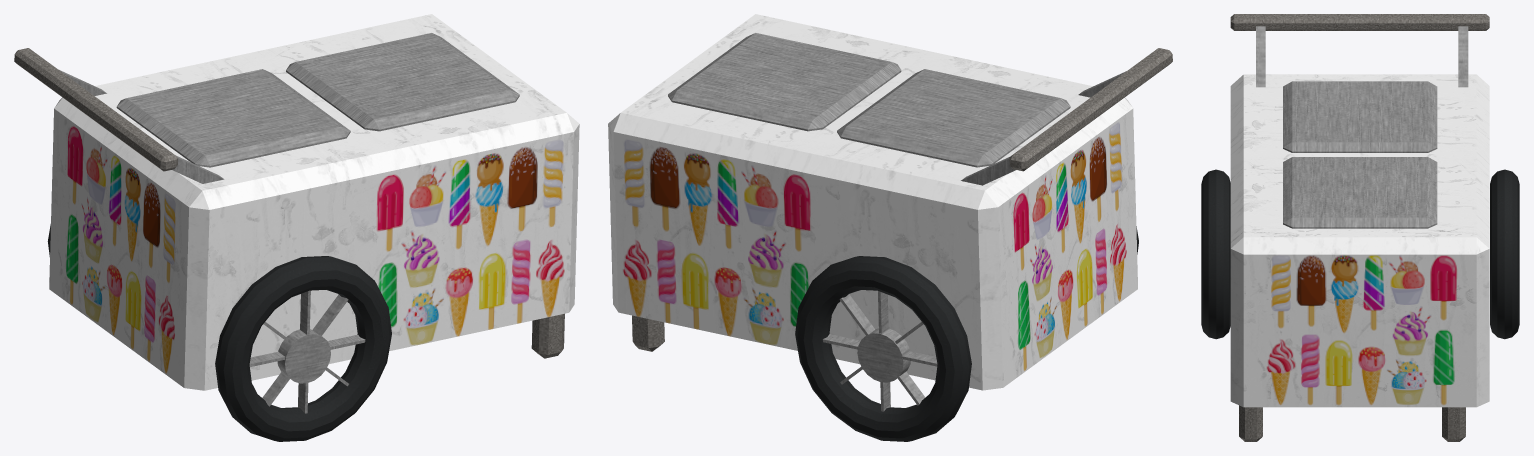
File: icecreamcart.fbx
3 views of the same model, side by side, from view 1: azimuth 30°, elevation 25°; view 2: azimuth 150°, elevation 25°; view 3: azimuth 270°, elevation 25° (orthographic). The views are drawn at different scales.
Parts seen in each view (by area): view 1: polySurface559; view 2: polySurface559; view 3: polySurface559.
Part boxes in pixels (left/top/right/bottom): polySurface559: left=14, top=14, right=579, bottom=441; polySurface559: left=608, top=14, right=1172, bottom=441; polySurface559: left=1201, top=14, right=1519, bottom=441.
Bounding box in the file's own units: 2.74 × 1.88 × 2.06.
1 material, 1 textured.
